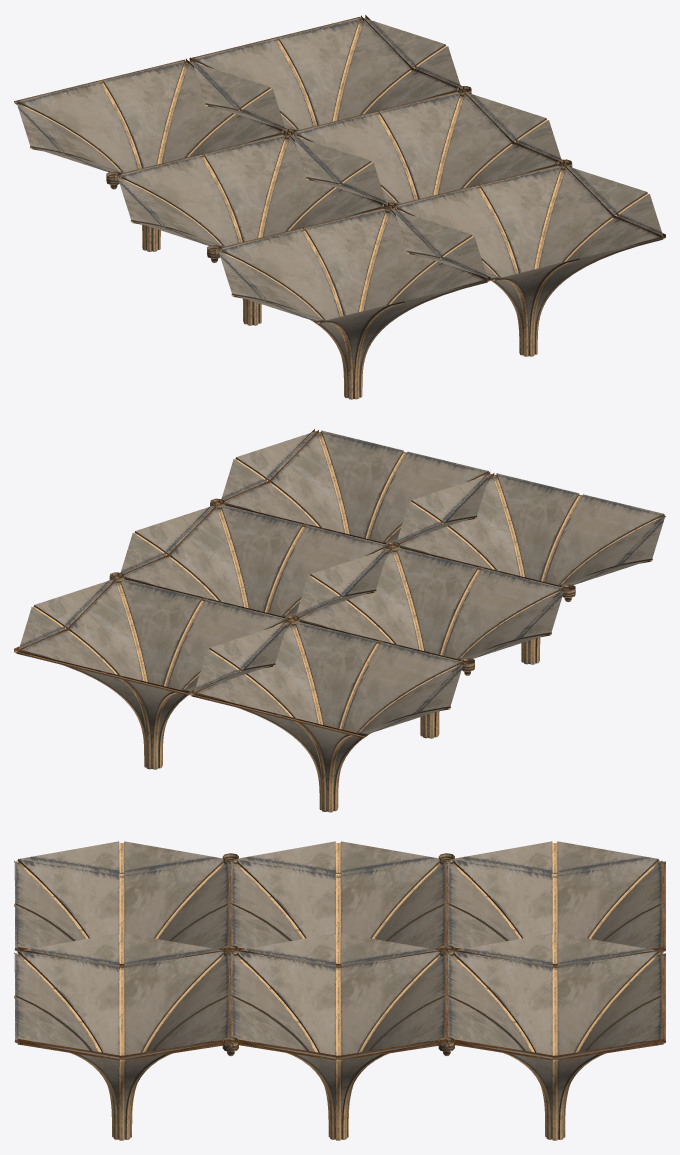
File: church_ceiling.glb
The picture shows the model from 3 angles, top to bottom: view 1: azimuth 30°, elevation 25°; view 2: azimuth 150°, elevation 25°; view 3: azimuth 270°, elevation 25°; orthographic projection. The views are drawn at different scales.
Visible parts, largest first — view 1: NurbsPath.024_Mesh.015, NurbsPath.022_Mesh.007; view 2: NurbsPath.024_Mesh.015, NurbsPath.022_Mesh.007; view 3: NurbsPath.024_Mesh.015, NurbsPath.022_Mesh.007.
Boxes of the visible parts, x1,y1,x2,y2 form: NurbsPath.024_Mesh.015: [14, 15, 665, 399]; NurbsPath.022_Mesh.007: [106, 86, 572, 262]; NurbsPath.024_Mesh.015: [14, 429, 665, 812]; NurbsPath.022_Mesh.007: [109, 498, 575, 675]; NurbsPath.024_Mesh.015: [14, 841, 665, 1140]; NurbsPath.022_Mesh.007: [222, 853, 454, 1056].
Size of the model in its own units: 3.45 by 1.05 by 4.35.
1 material, 1 textured.
